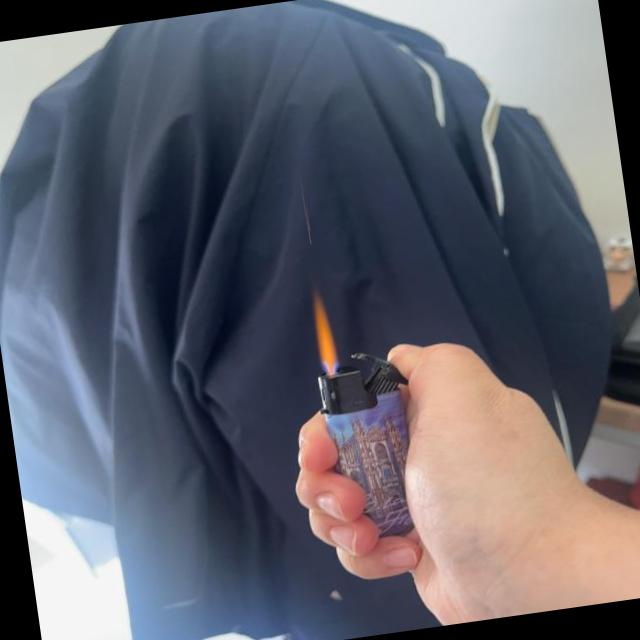Fire: (306, 290, 344, 372)
